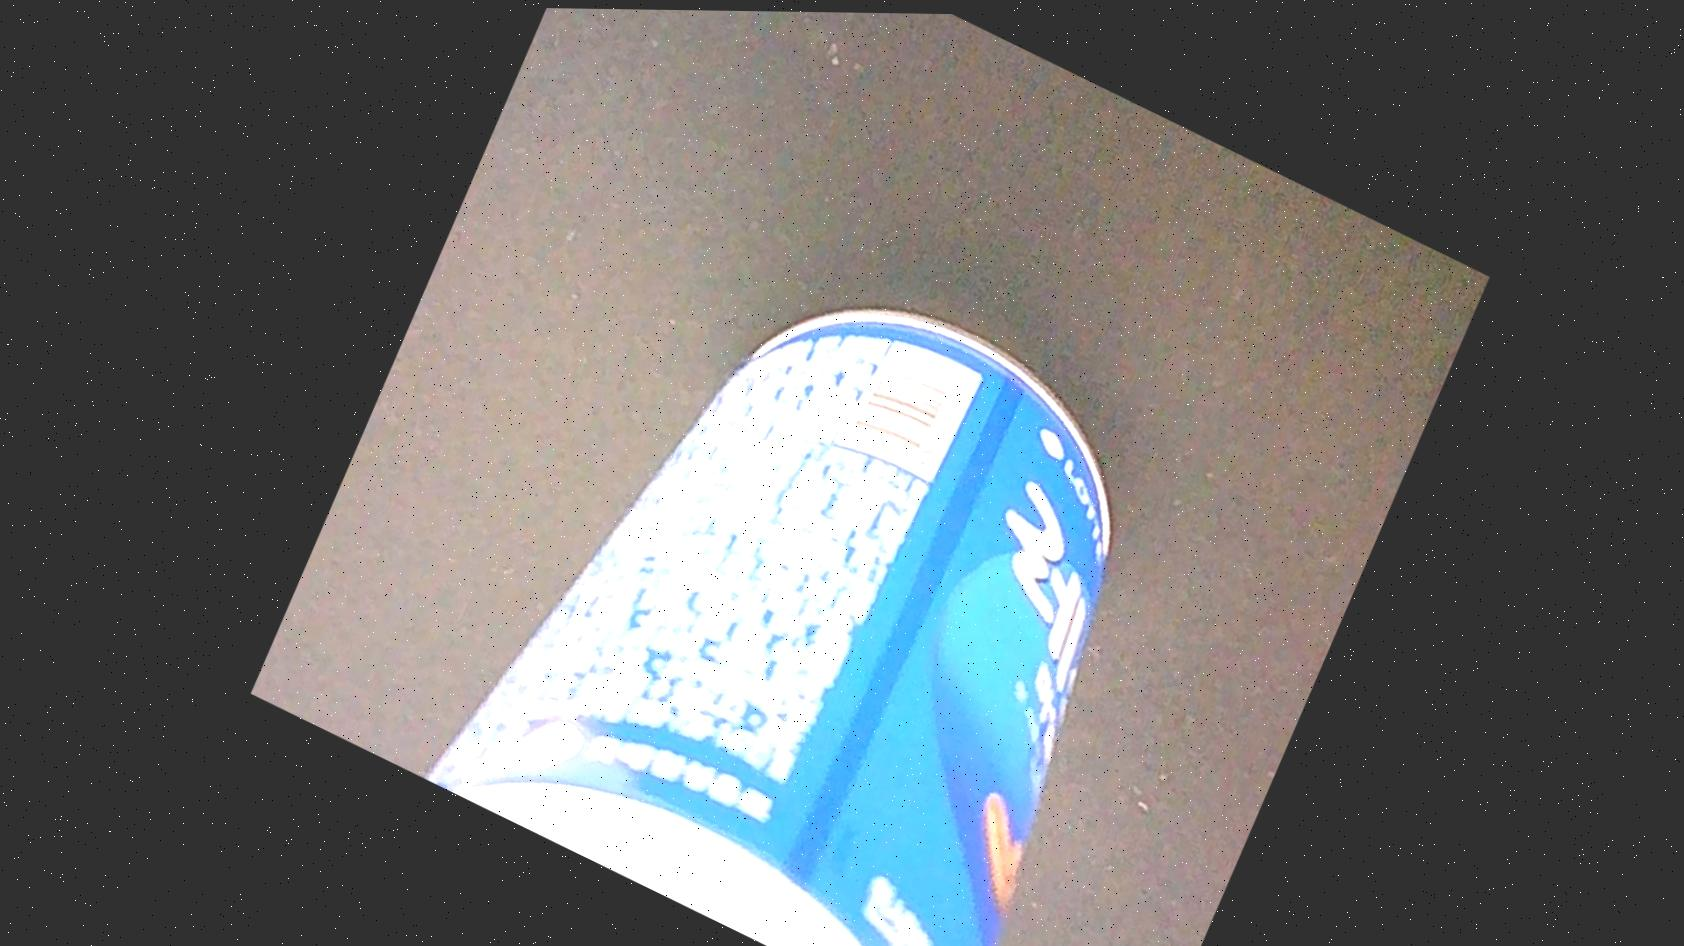letsbe: (363, 170, 1263, 946)
